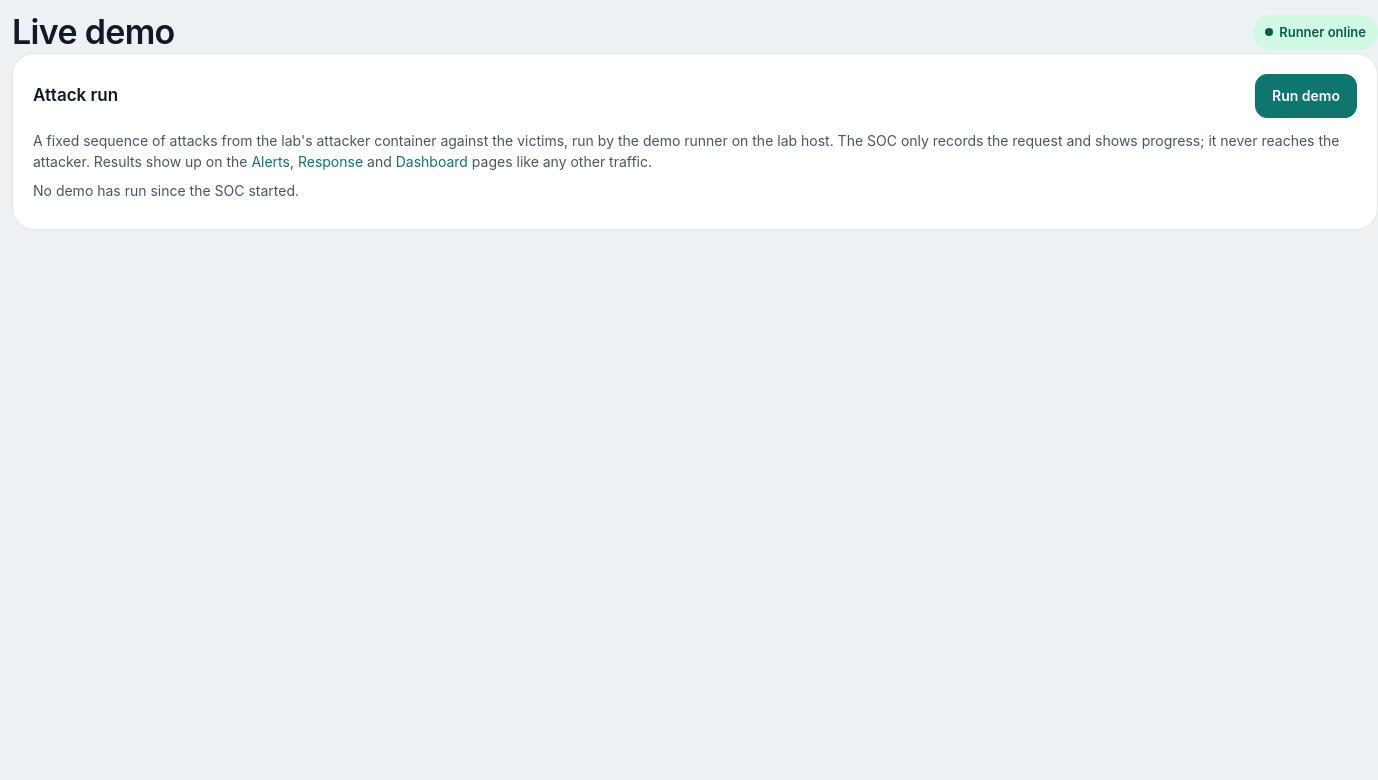
it: Live demo page › keeps Run demo disabled from the click until the reload has finished (no double start)
This screenshot has width=1378, height=780.
Expected: the text "Runner online" is shown, [1253,15,1377,50]
Click the button "Run demo" at coordinates (1306, 96), box [1255,74,1357,118]
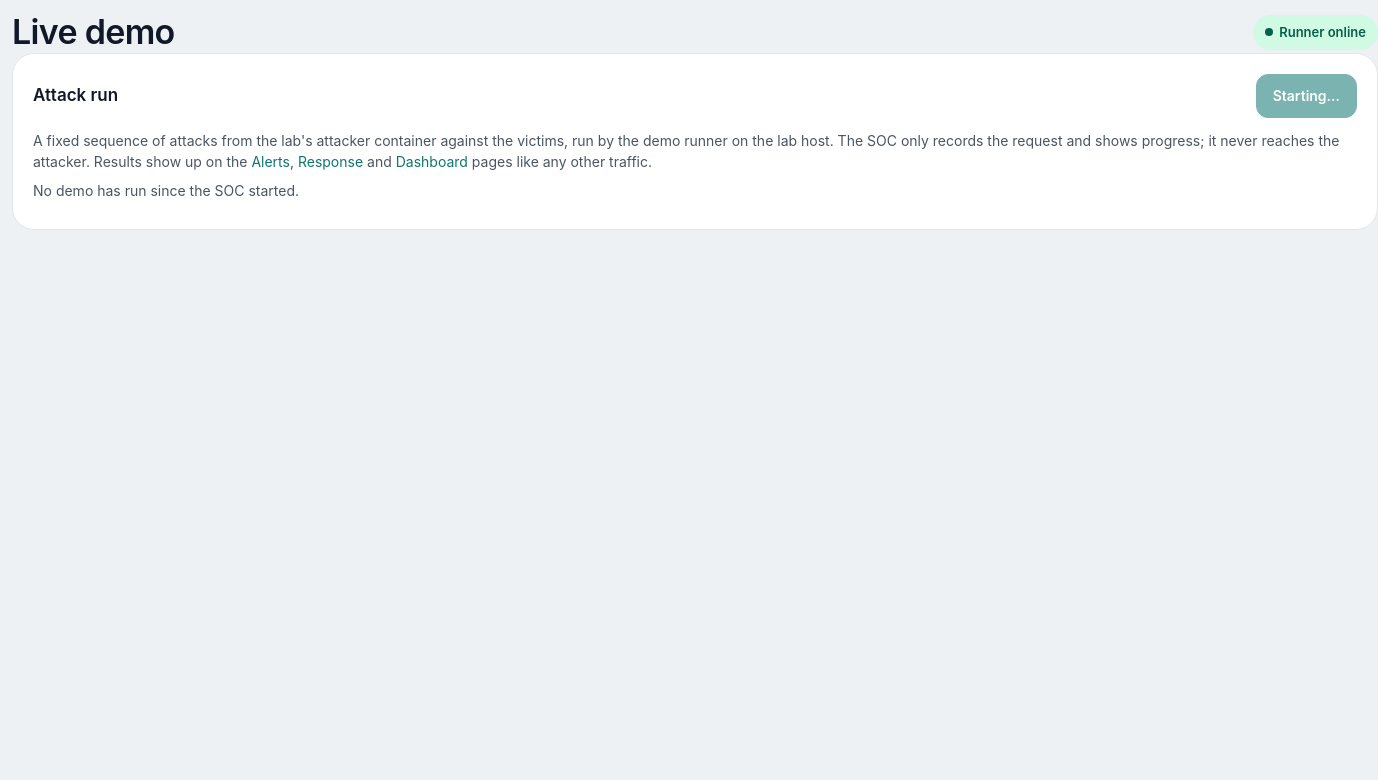
Now the button "Starting…" is disabled
Click the button "Starting…" at coordinates (1306, 96), box [1256,74,1357,118]
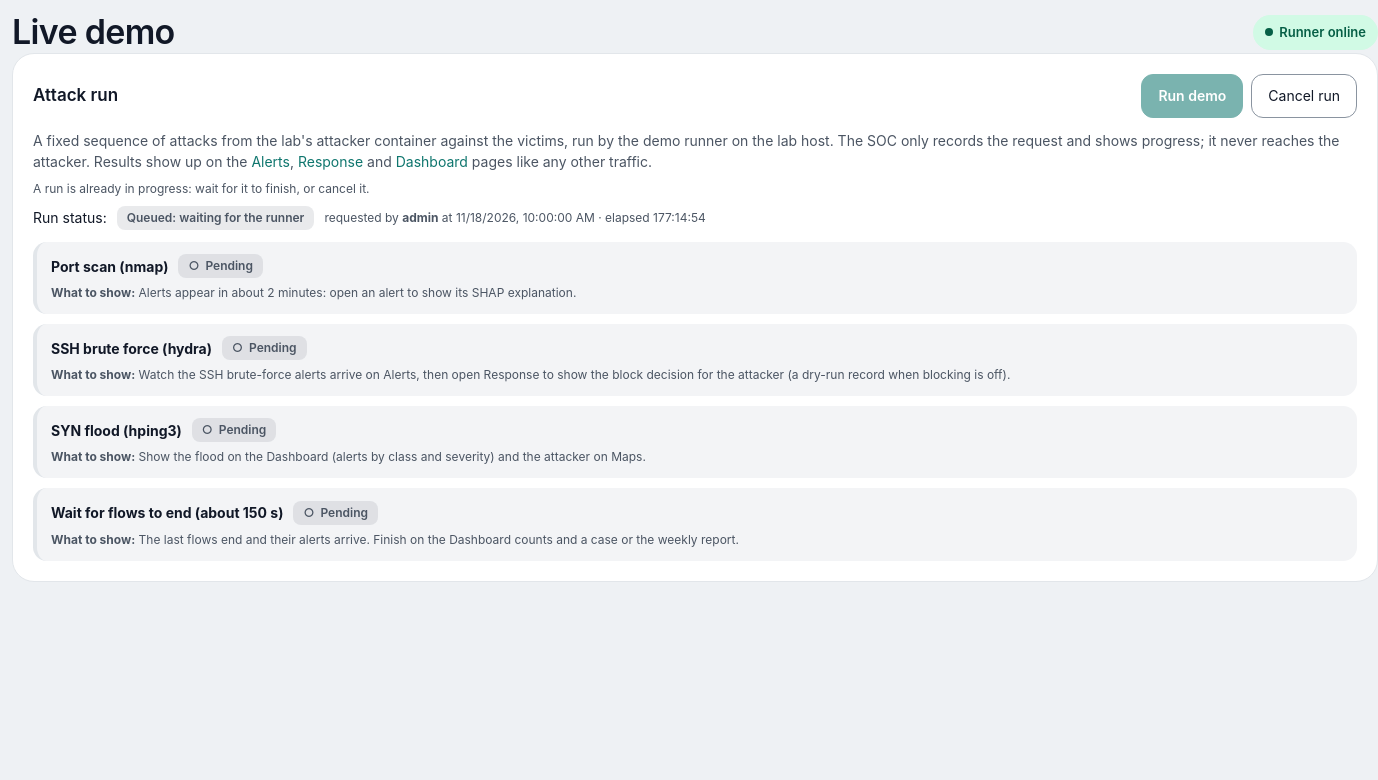
Now the button "Cancel run" is enabled, box [1251,74,1357,118]
